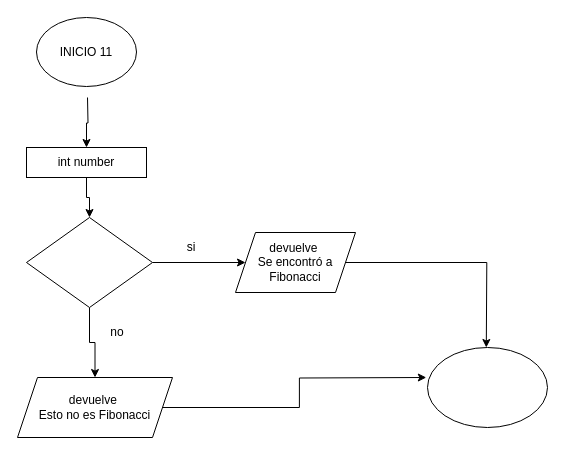
Image size: 565x455. Some labels were removed from this diagram. Each missing label, with the centre of its shape:
FIN: point (487, 387)
number==11235813: point (89, 262)
